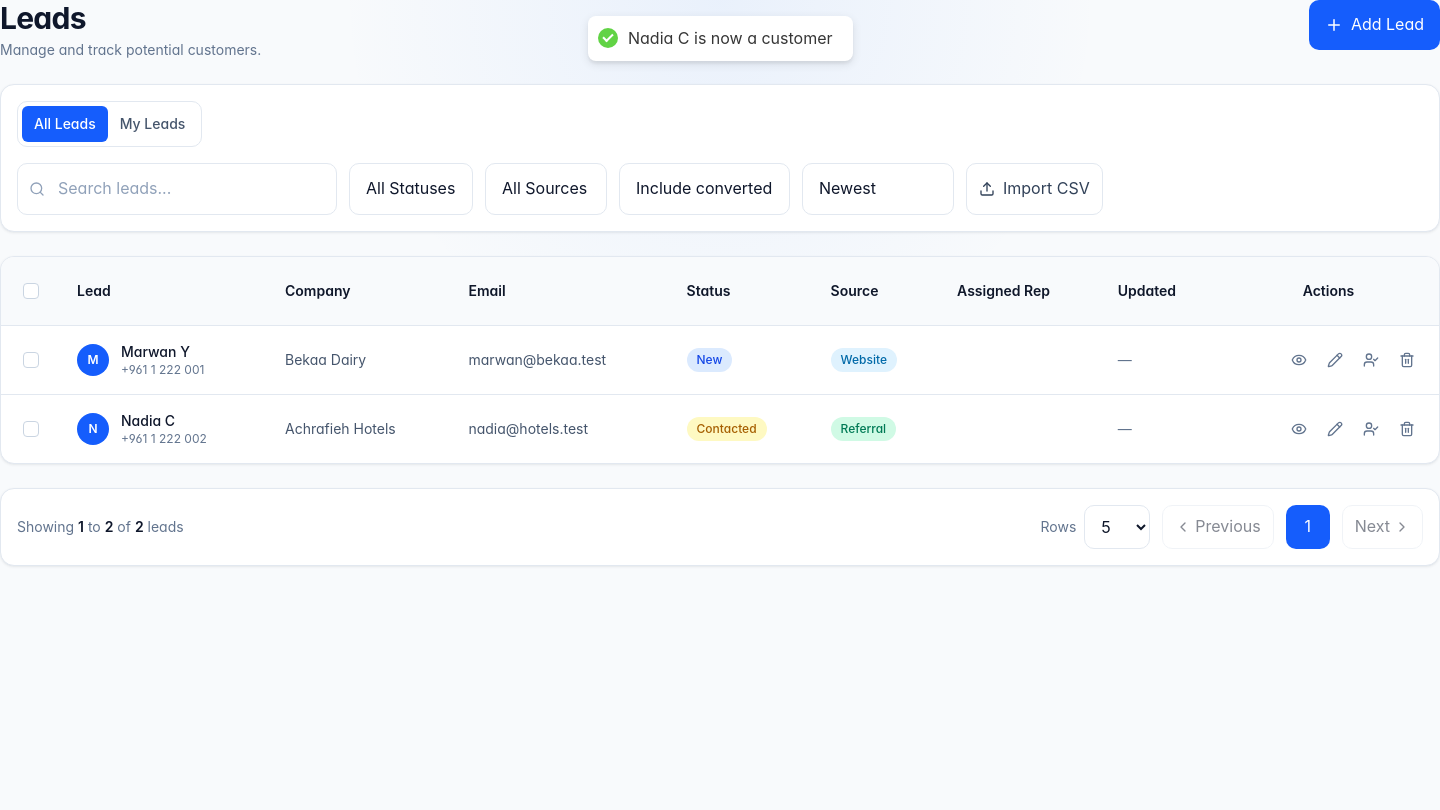
Test case: Lead — conversion › keeps the dialog open and reports the reason when the server refuses
Click the button named "Convert Nadia C to a customer".
click(1371, 429)  # box [1355,413,1387,445]
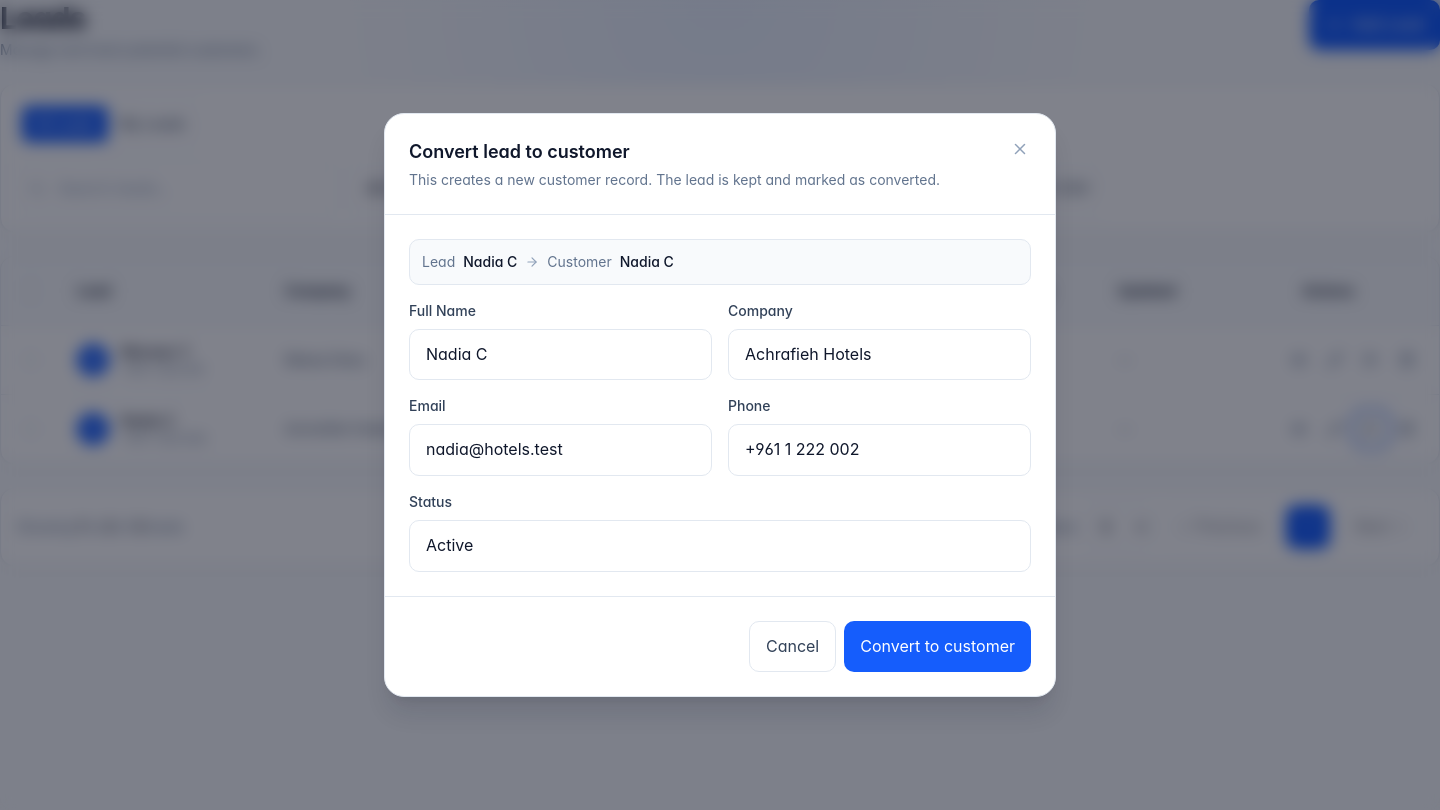
Click the button "Convert to customer".
click(938, 646)  # box [844,621,1031,672]
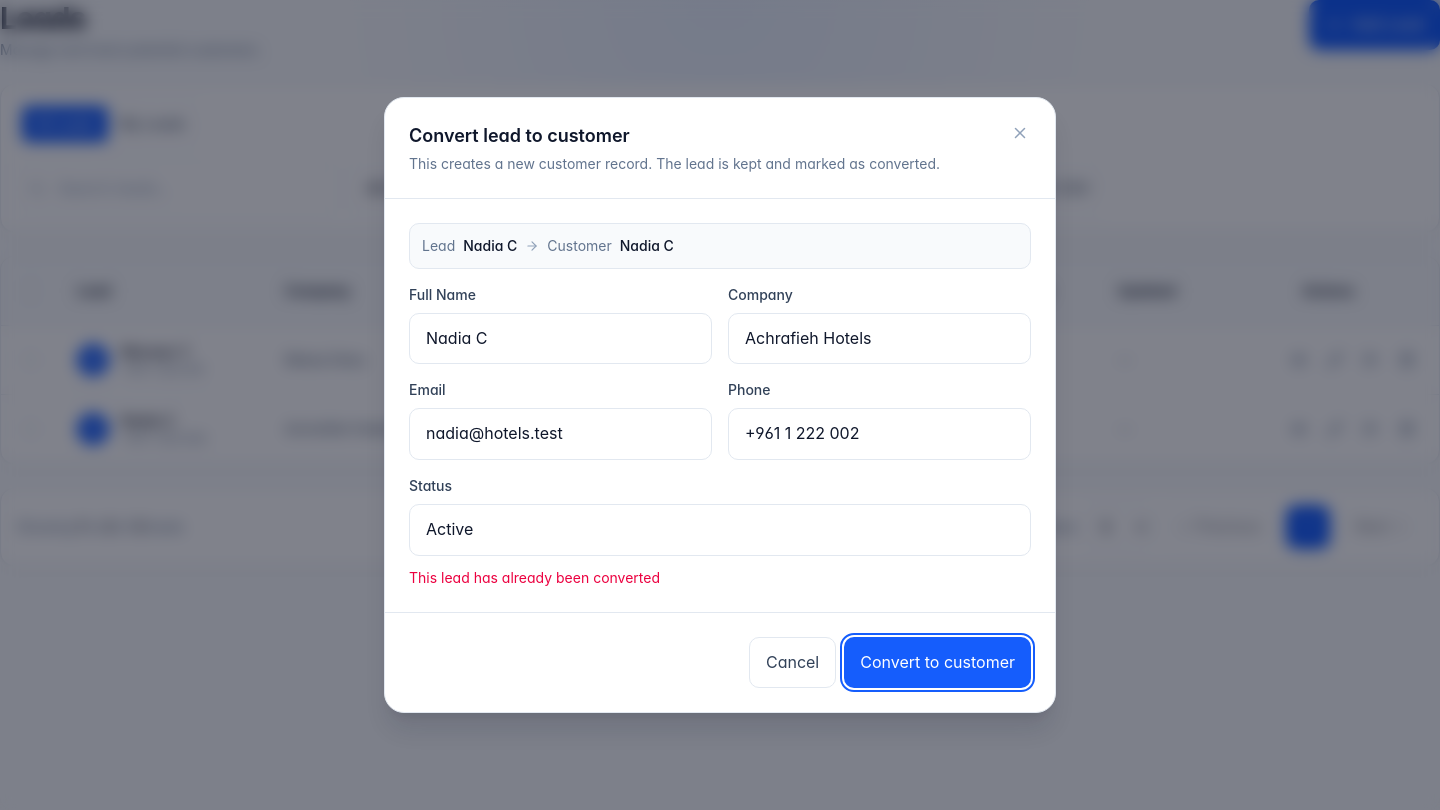
Result: the dialog is shown at [384,97,1056,713]
Result: the text "This lead has already been converted" is shown at [409,569,660,586]
